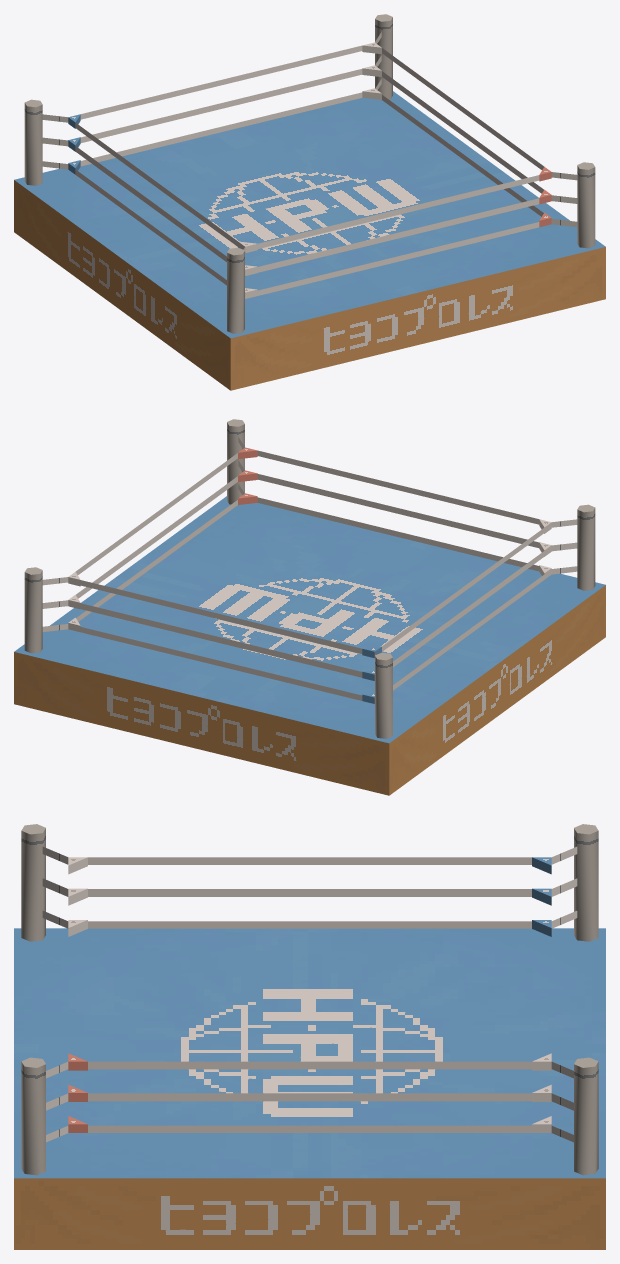
The model's file is 015d_Wrestling_Ring.glb.
The picture shows the model from 3 angles, top to bottom: view 1: azimuth 30°, elevation 25°; view 2: azimuth 150°, elevation 25°; view 3: azimuth 270°, elevation 25°; orthographic projection. The views are drawn at different scales.
Parts seen in each view (by area): view 1: part_0; view 2: part_0; view 3: part_0.
Boxes of the visible parts, left/top/right/bottom form: part_0: left=14, top=14, right=605, bottom=390; part_0: left=14, top=419, right=605, bottom=795; part_0: left=14, top=824, right=605, bottom=1249.
Bounding box in the file's own units: 6 × 2 × 6.
Materials: 1 (1 with a texture image).
